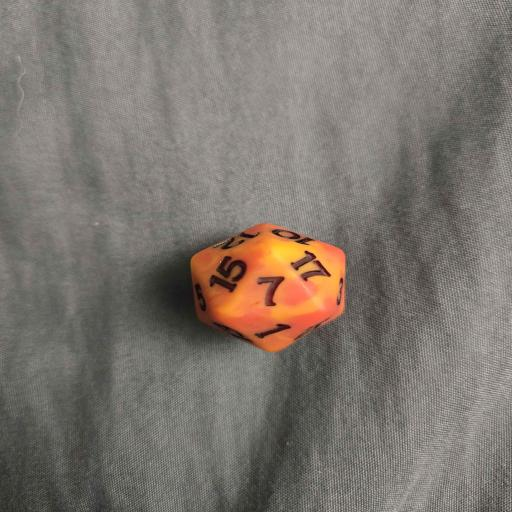twenty sided dice: (190, 223, 346, 352)
